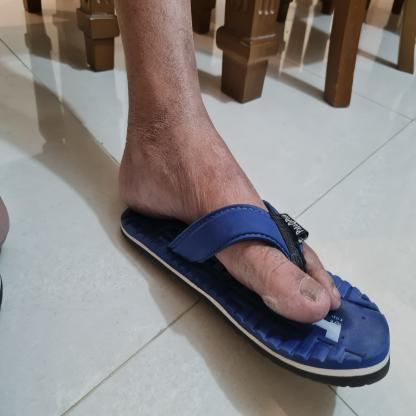leg: (103, 0, 352, 331)
